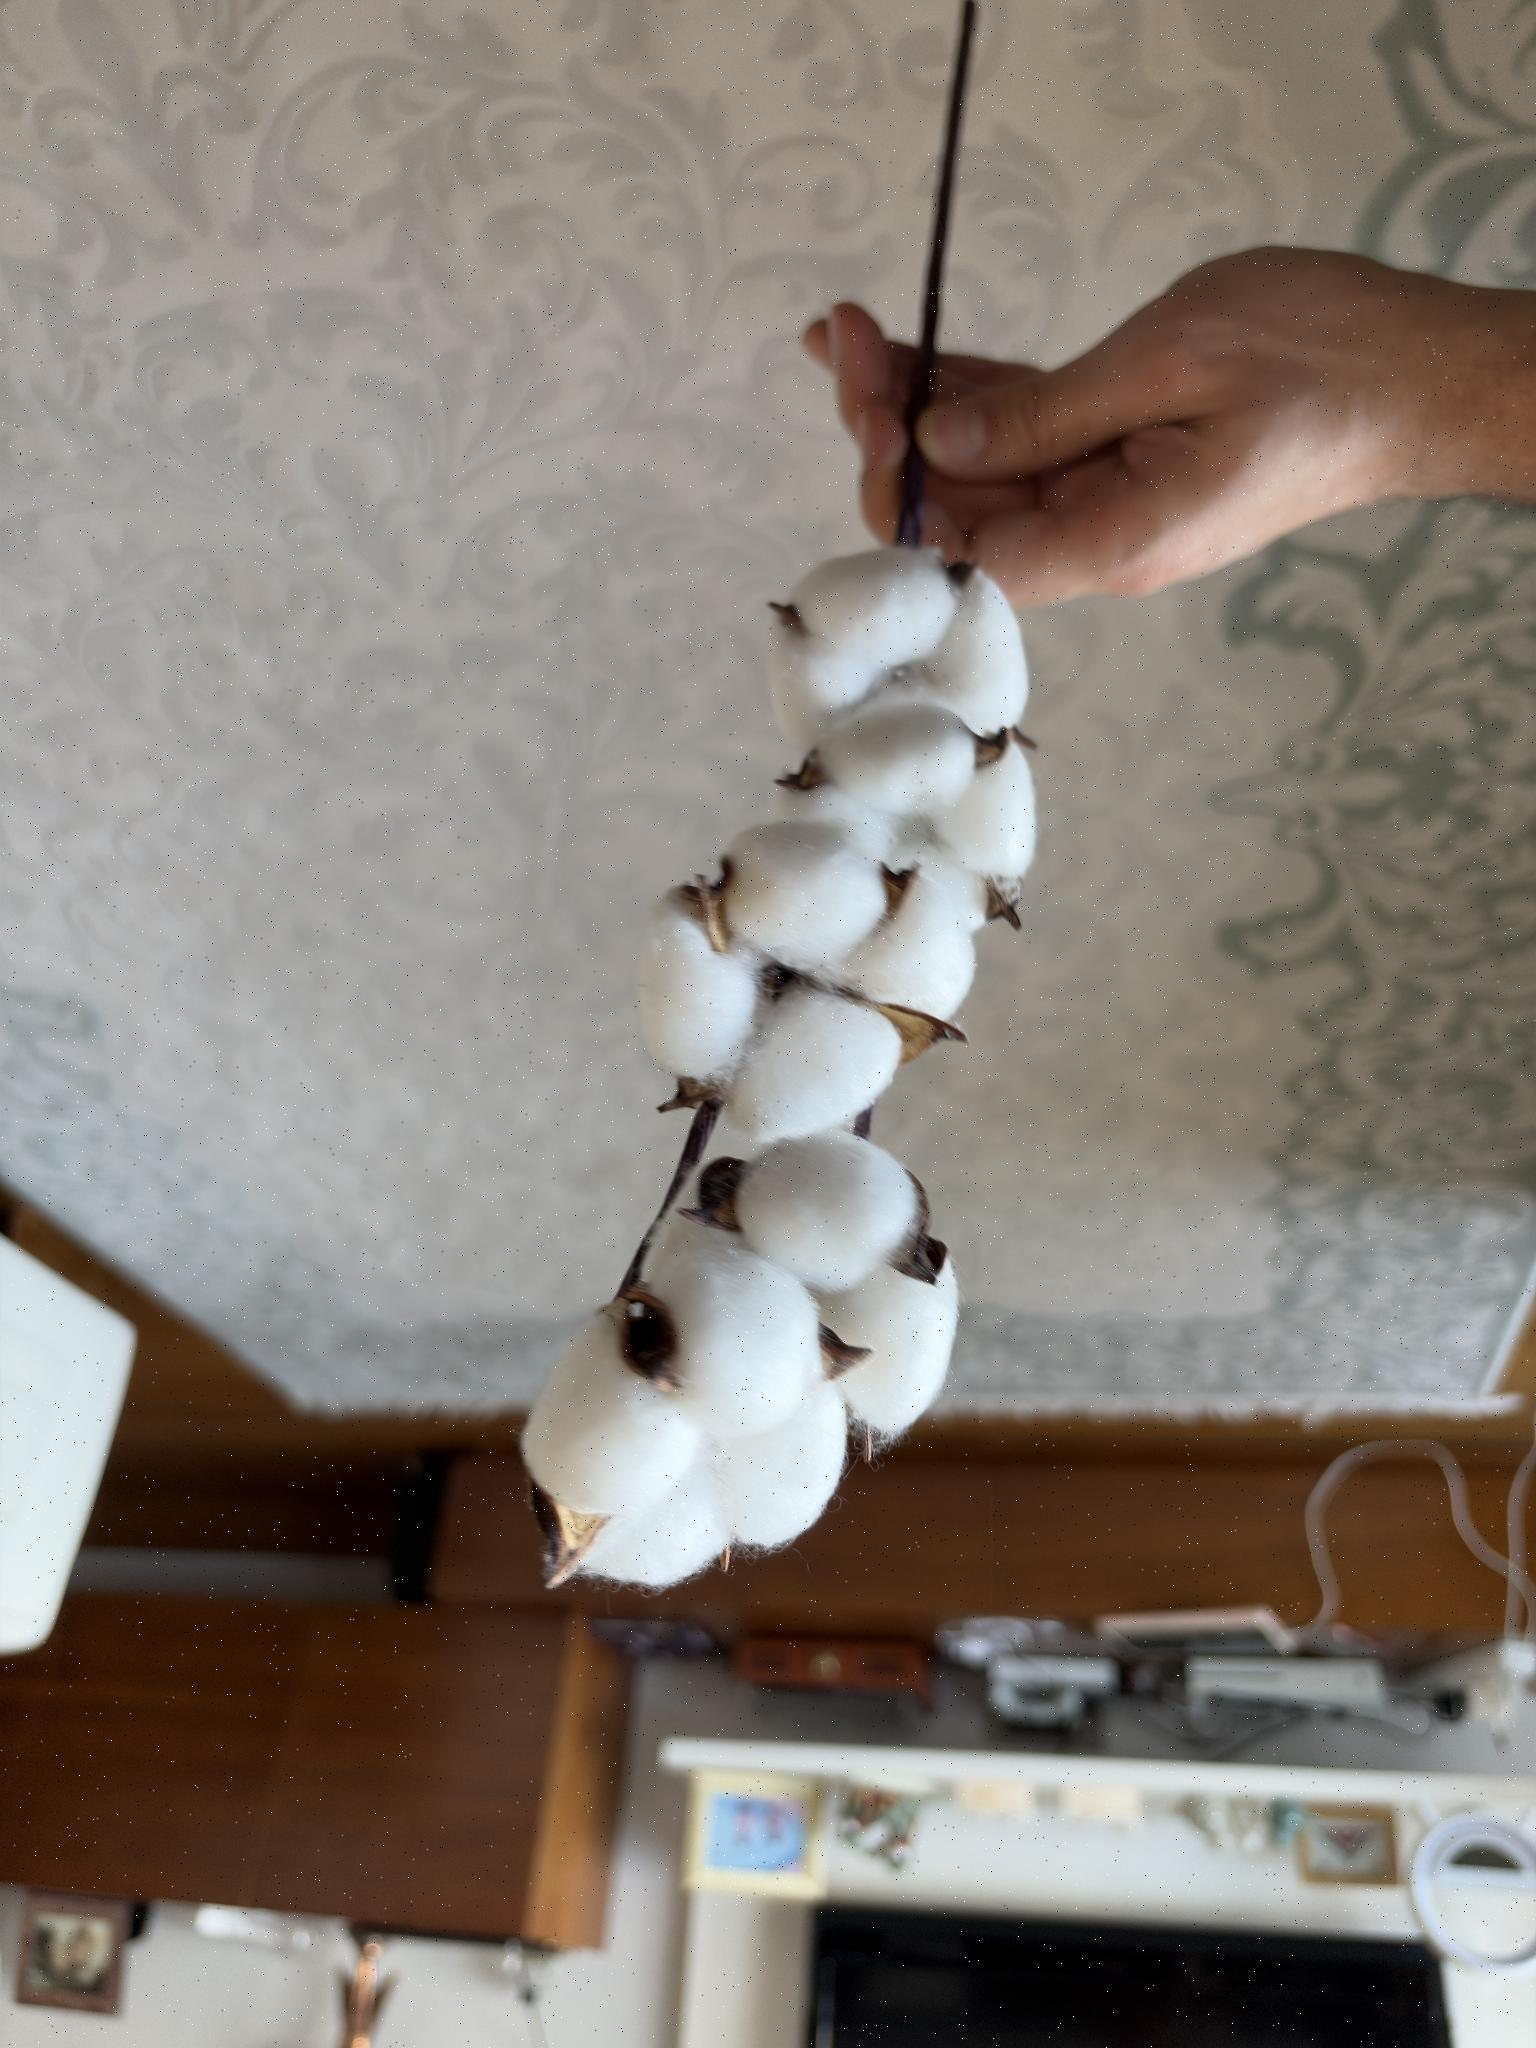cotton_boll: (523, 1306, 703, 1516), (655, 1222, 823, 1438), (734, 1129, 918, 1292), (726, 982, 902, 1143), (820, 1258, 958, 1437), (716, 822, 887, 968), (639, 889, 758, 1080), (718, 1376, 847, 1546), (794, 547, 957, 672), (839, 869, 975, 1019), (581, 1459, 728, 1588), (818, 701, 978, 814), (768, 606, 891, 750), (925, 568, 1028, 734), (936, 731, 1036, 879), (887, 829, 991, 932), (781, 782, 899, 860)
cotton_boll-cluster: (513, 1129, 975, 1622), (624, 808, 983, 1145), (762, 693, 1044, 935), (757, 543, 1034, 780)
